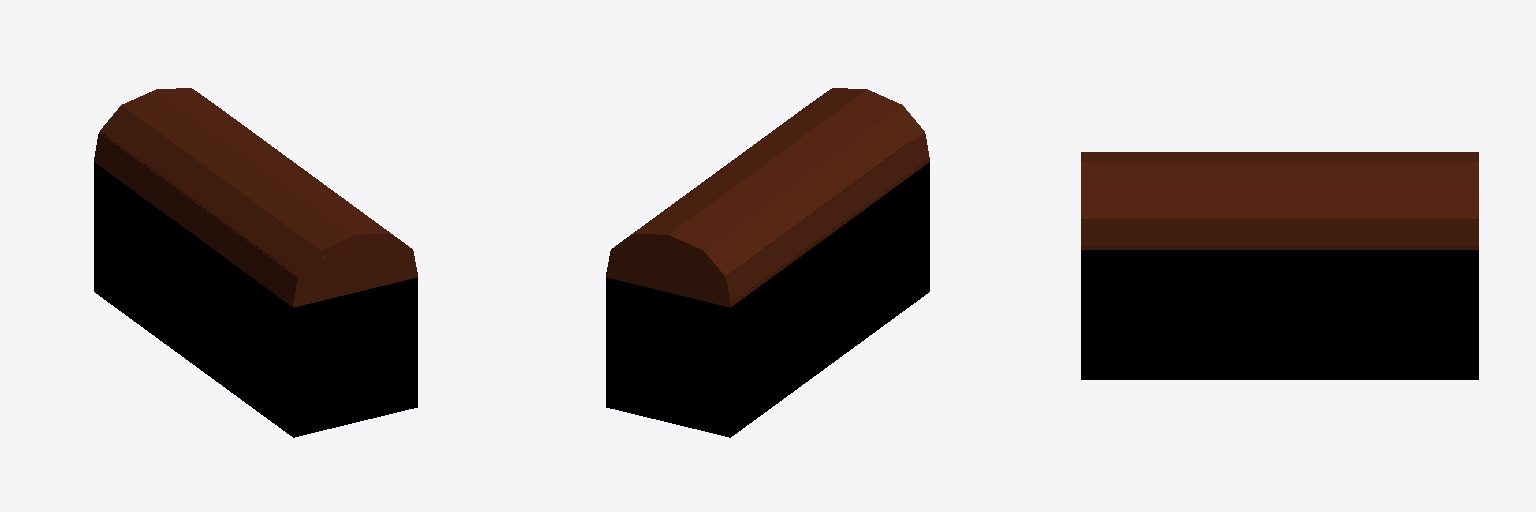
File: bread.obj
3 renders of one model, left to right at view 1: azimuth 30°, elevation 25°; view 2: azimuth 150°, elevation 25°; view 3: azimuth 270°, elevation 25°, orthographic.
Parts seen in each view (by area): view 1: pCube1; view 2: pCube1; view 3: pCube1.
Boxes of the visible parts, box(x1,y1,x2,y2) form: pCube1: box(94, 88, 417, 437); pCube1: box(606, 88, 929, 437); pCube1: box(1081, 152, 1478, 379).
Bounding box in the file's own units: 4 × 5.77 × 11.09.